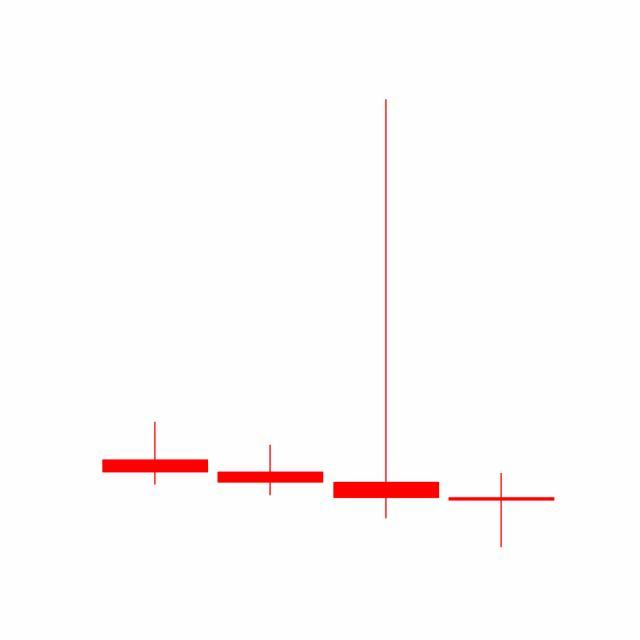Spinning Top: (329, 94, 445, 524)
